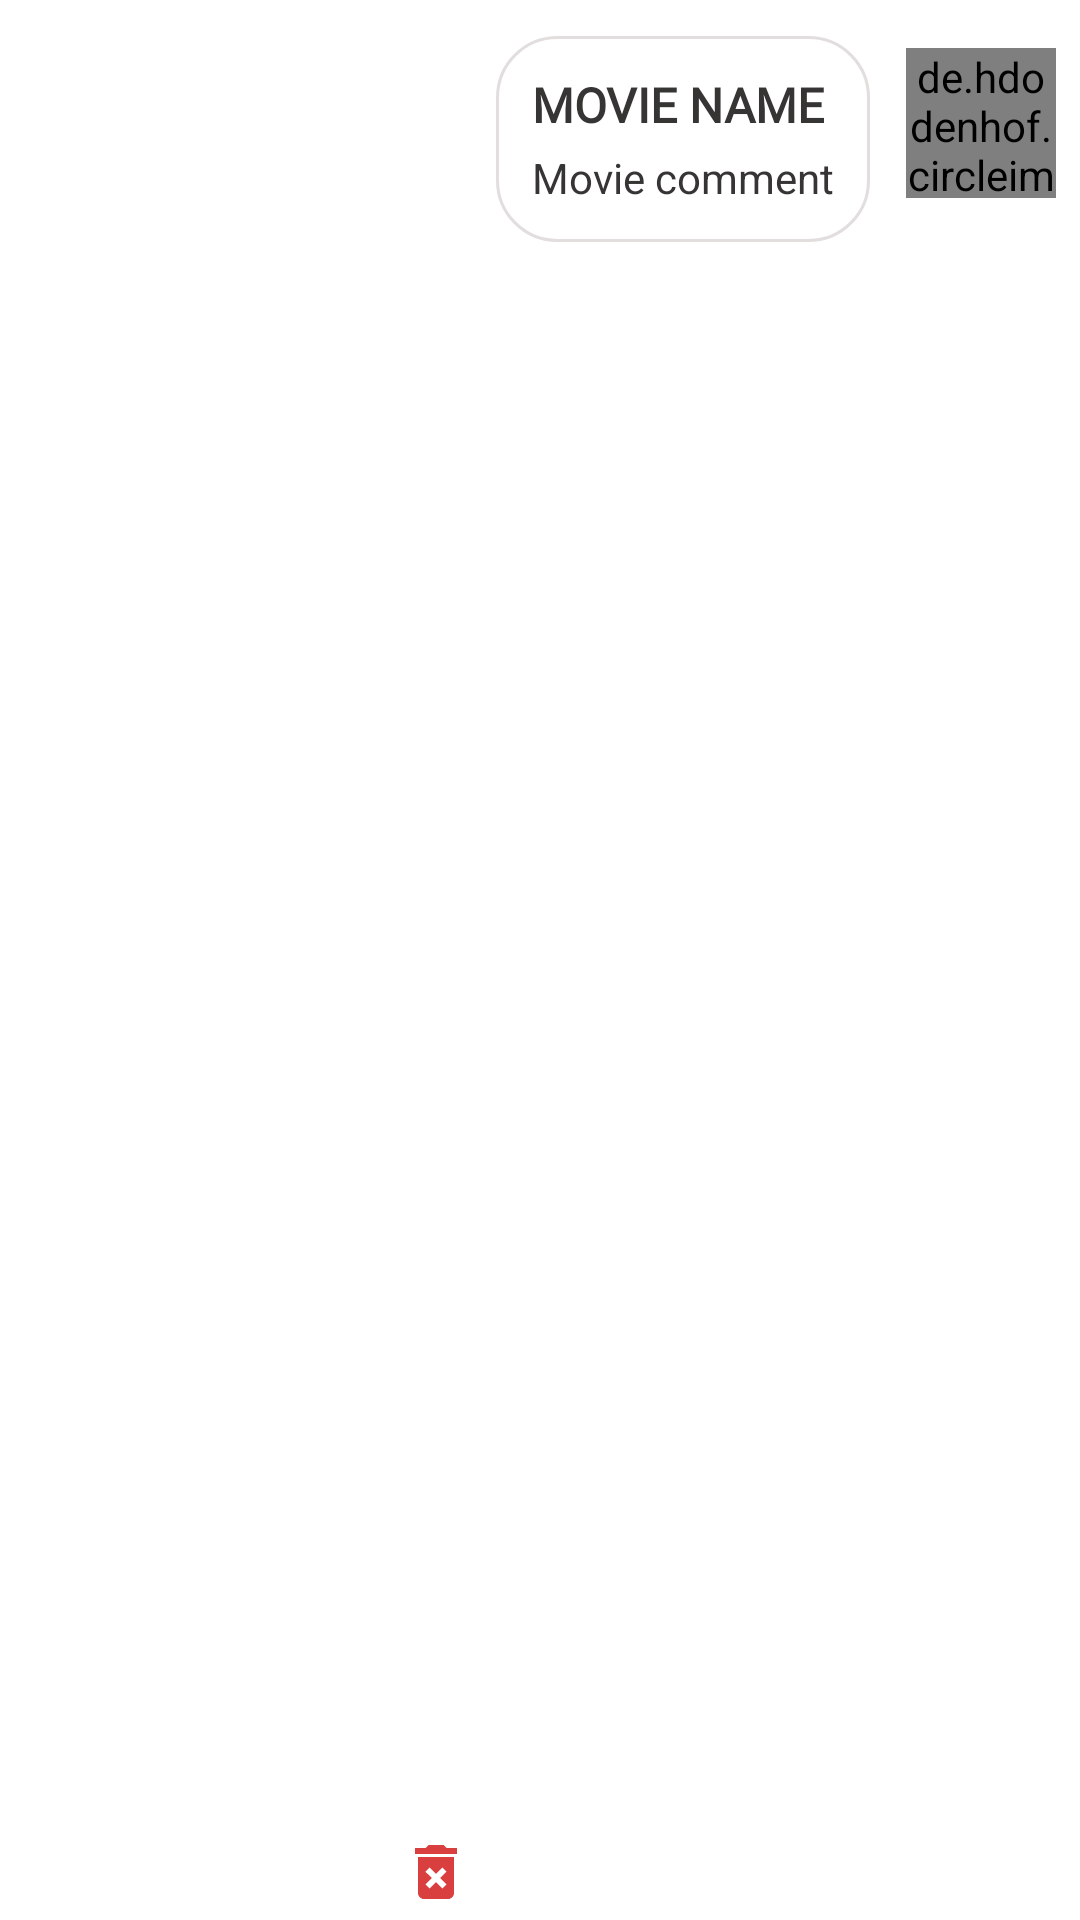

Screen size 1080px x 1920px. Icon name, then its center in pixels as [x,y]:
delete: [436,1872]
